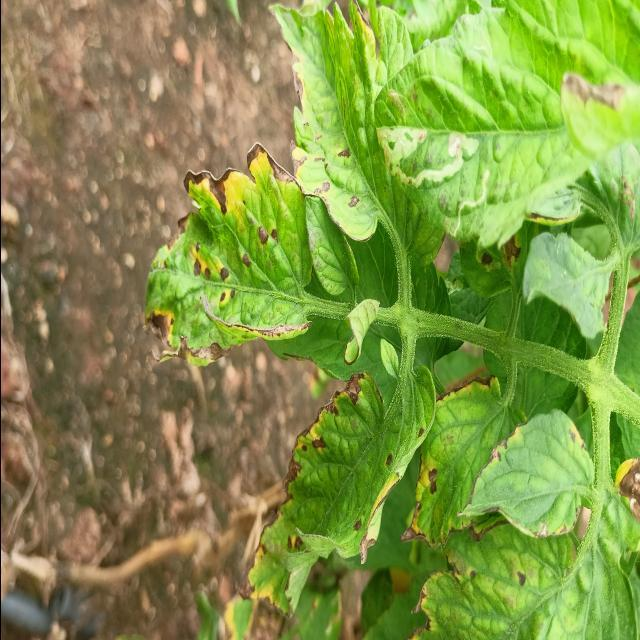Tomato mosaic virus leaf: (226, 368, 402, 624), (136, 138, 312, 372), (404, 368, 510, 552), (403, 518, 541, 640), (309, 123, 381, 245), (456, 223, 527, 300)
